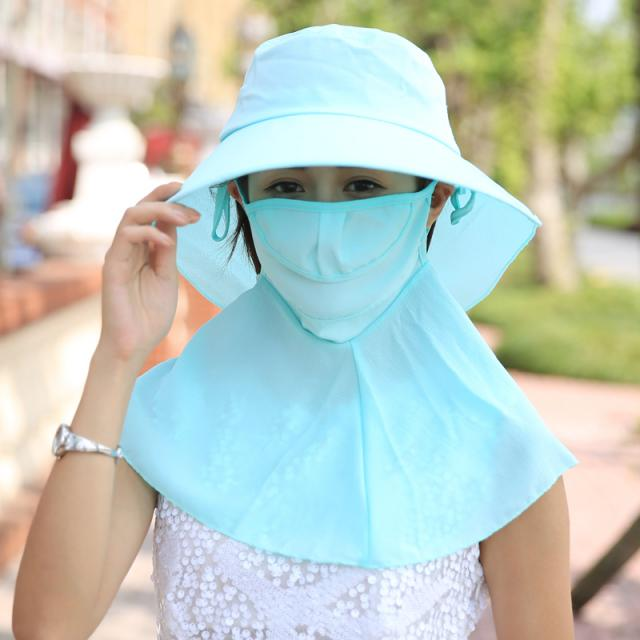mask: (250, 142, 428, 341)
